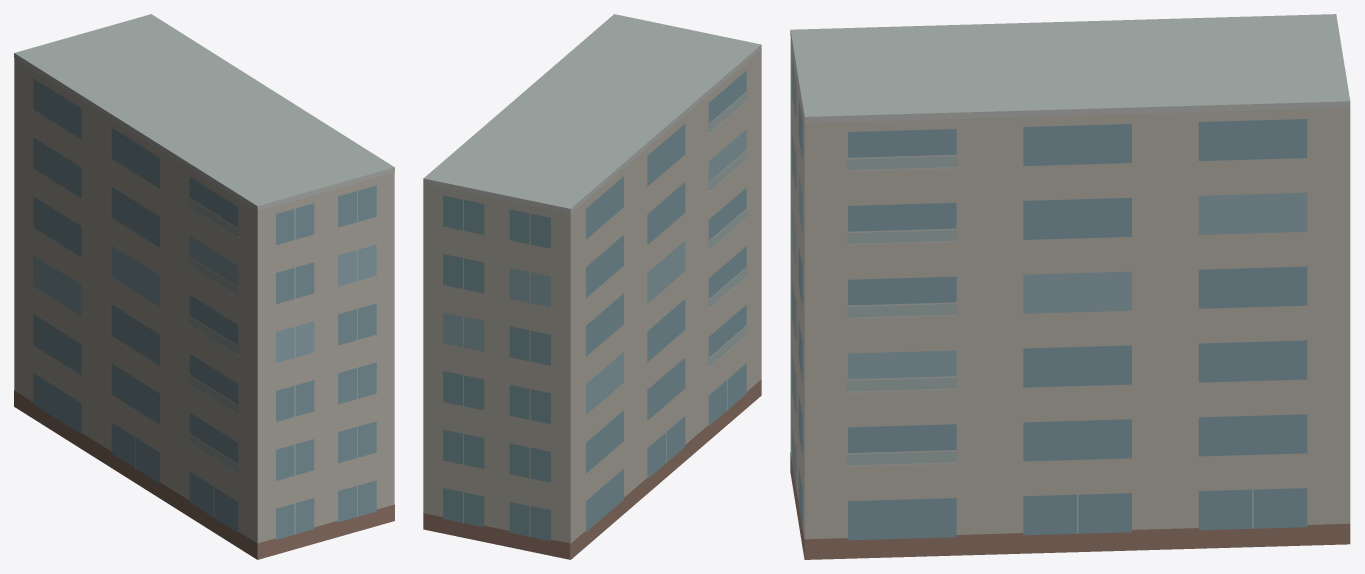
The model's file is survey-upis-32757759.glb.
3 renders of one model, left to right at view 1: azimuth 30°, elevation 25°; view 2: azimuth 150°, elevation 25°; view 3: azimuth 270°, elevation 25°, orthographic. The views are drawn at different scales.
Parts seen in each view (by area): view 1: survey-upis-32757759.tmp; view 2: survey-upis-32757759.tmp; view 3: survey-upis-32757759.tmp.
Part boxes in pixels (x1,y1,x2,y2): survey-upis-32757759.tmp: (14,14,394,559); survey-upis-32757759.tmp: (423,14,761,559); survey-upis-32757759.tmp: (790,14,1350,559).
Bounding box in the file's own units: 8.68 × 17.4 × 19.94.
